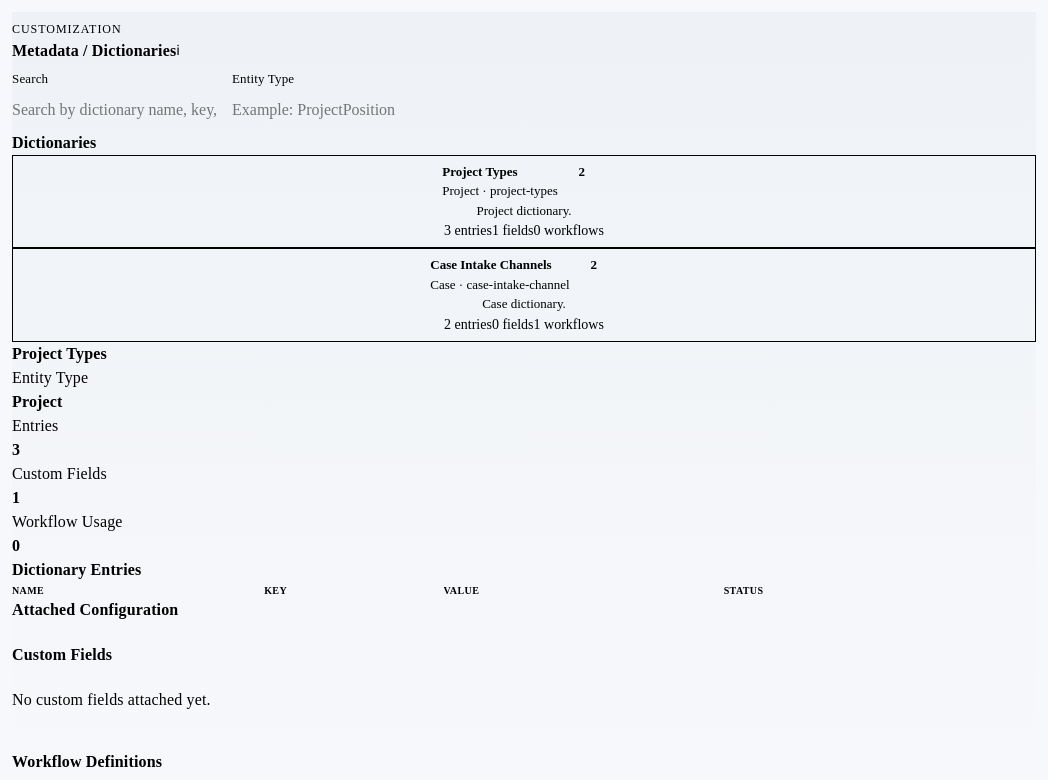
Test: MetadataAdminPage › switches selected dictionary
Click the button "Case Intake Channels" at {"x": 524, "y": 295}, box [12,248,1036,342]
(page scrolled)
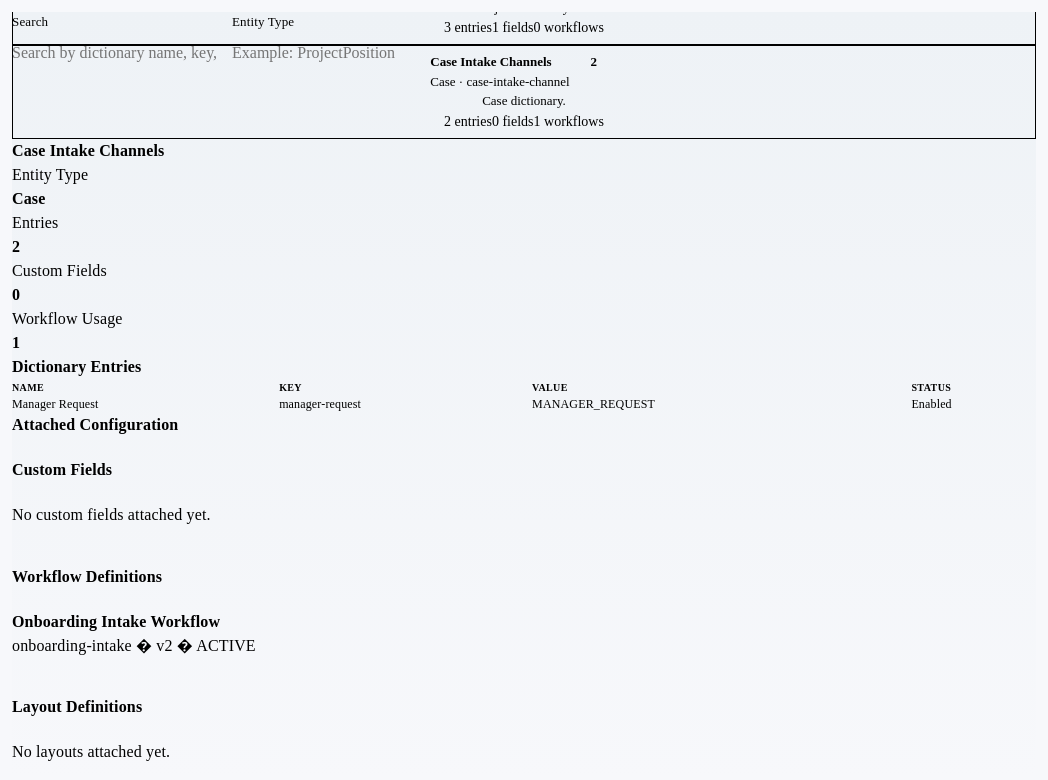
Expected: the text "Manager Request" is shown, [12,395,279,413]
Expected: the text "Onboarding Intake Workflow" is shown, [12,613,220,630]
